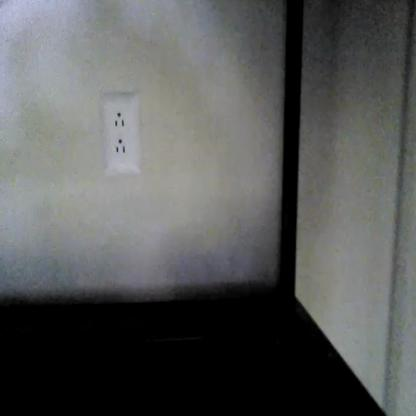OUTLET: (102, 96, 139, 175)
